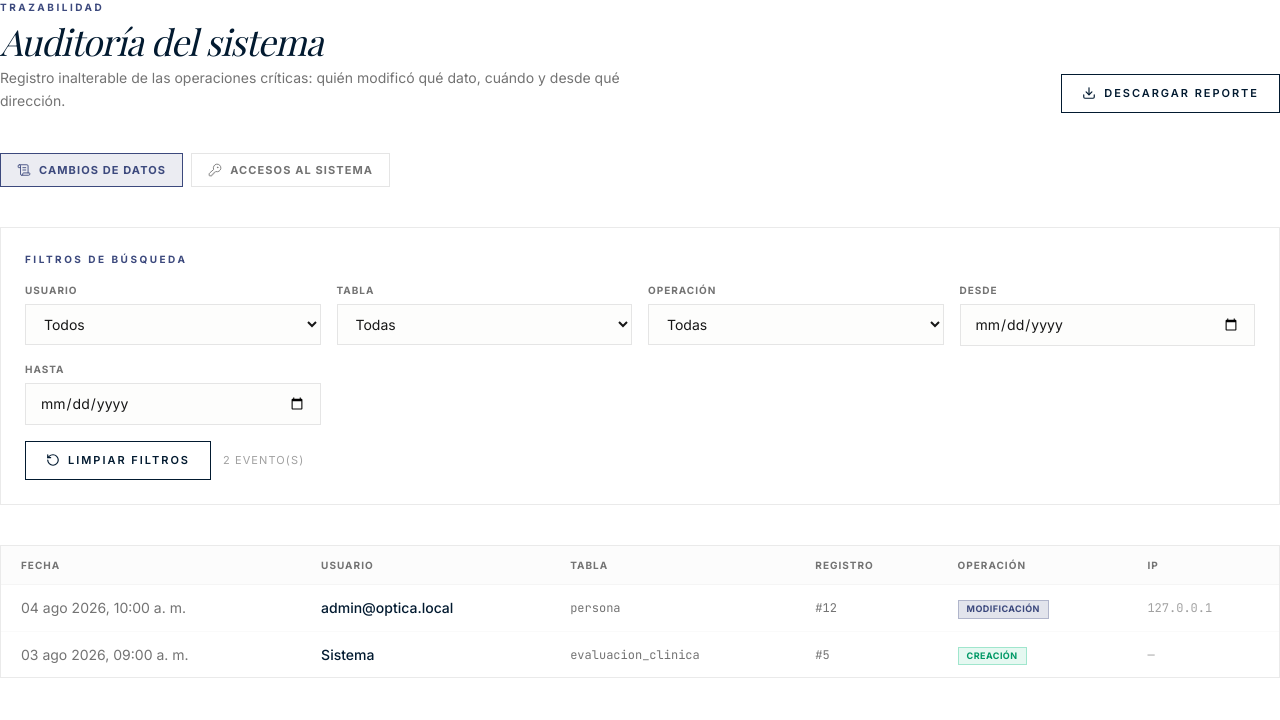
Test: AuditoriaPage › 3. Detalle del evento › El botón de cerrar oculta el detalle
The image size is (1280, 720).
What coordinates should you click on to do the following:
click the cell "persona"
I would click on:
 (595, 608)
Its box is [550,584,795,631].
(page scrolled)
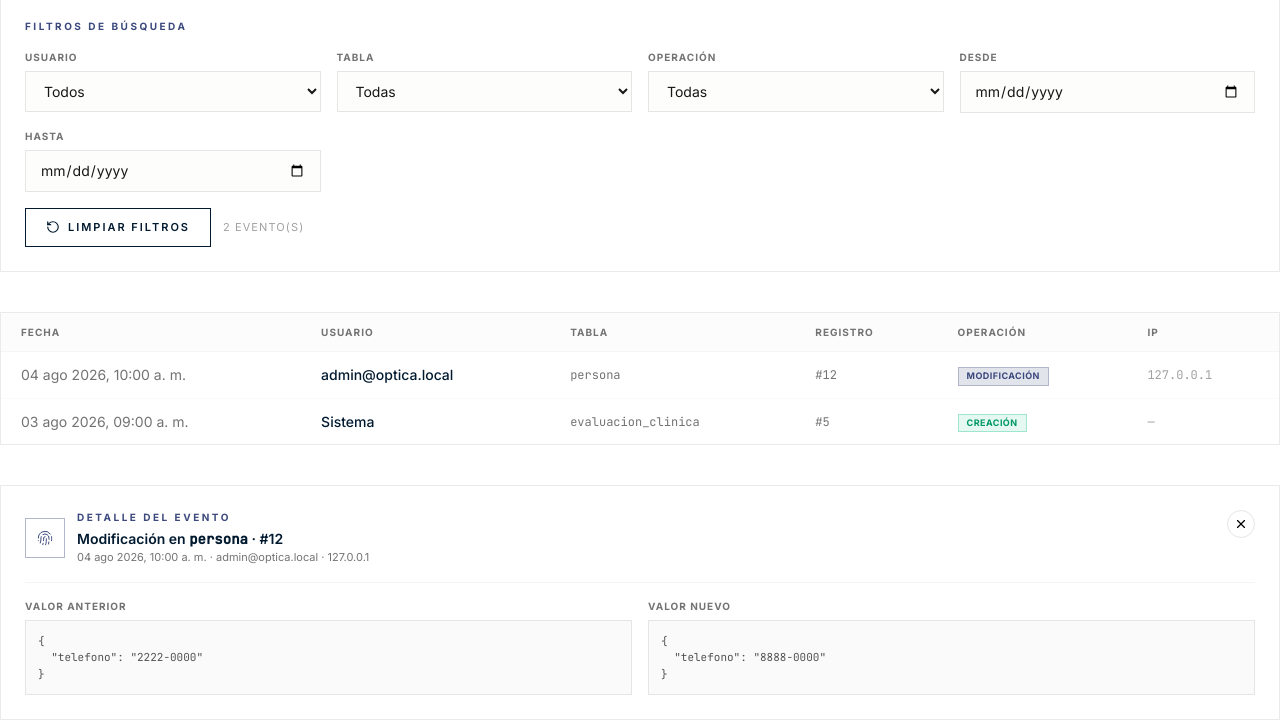
Expected: the text "Detalle del evento" is shown, [77,512,231,524]
What coordinates should you click on to do the following:
click the button named "Cerrar detalle"
I would click on:
 (1241, 524)
Its box is [1227,510,1255,538].
(page scrolled)
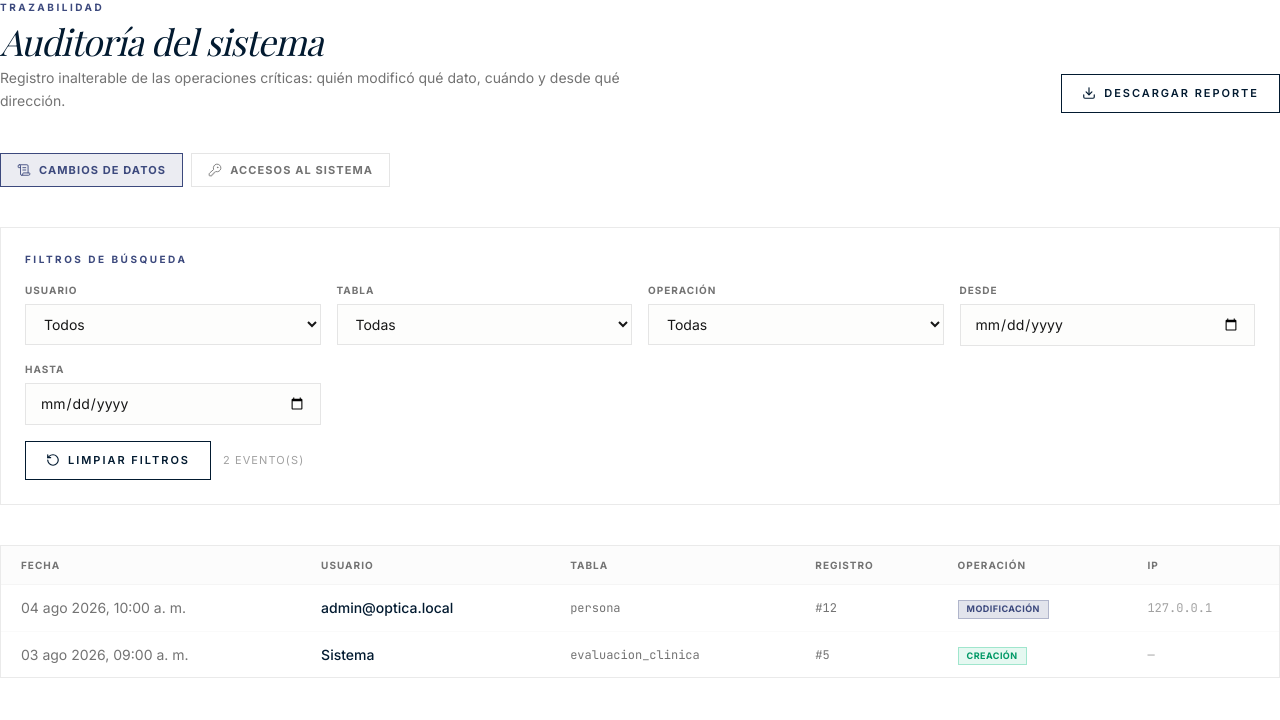
Expected: the text "Detalle del evento" is gone
